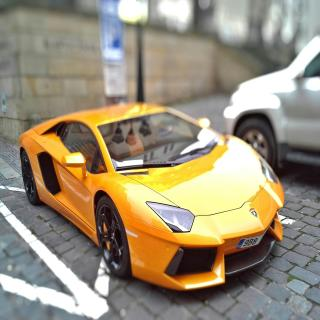Normal_vehicle: (18, 103, 290, 298), (229, 29, 320, 174)
